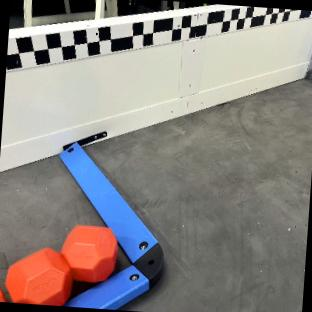Parking - Part: (4, 139, 162, 309)
V5_RED: (4, 225, 116, 304)
